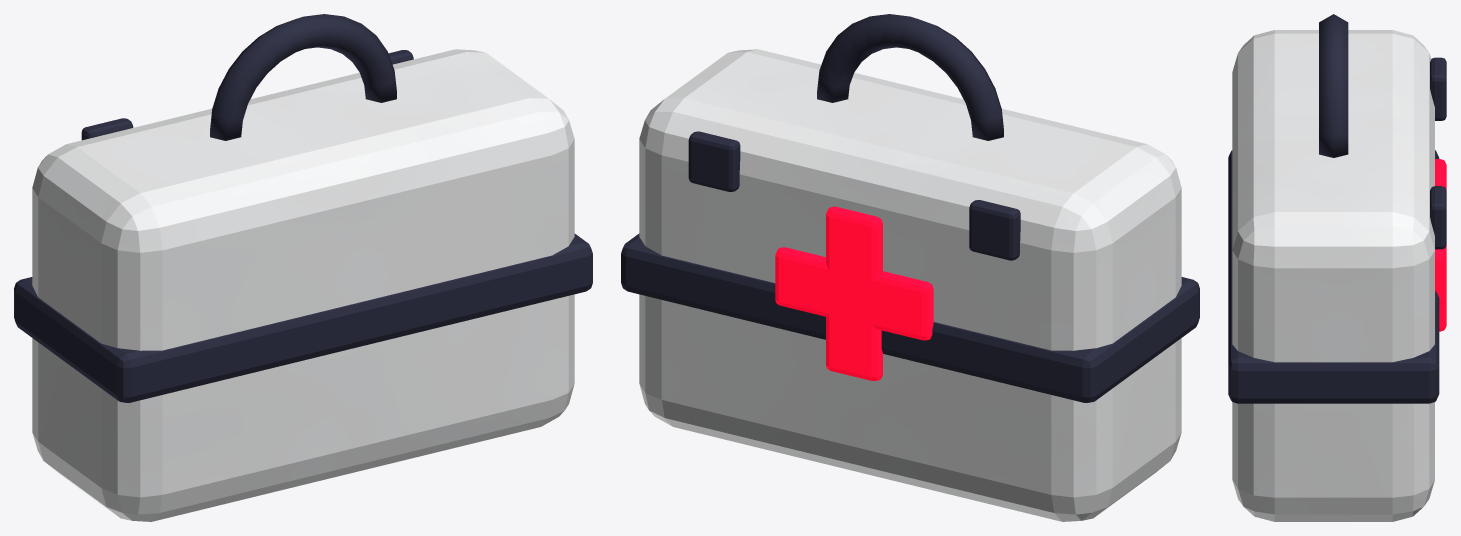
Rendered from item_medkit.glb.
3 renders of one model, left to right at view 1: azimuth 30°, elevation 25°; view 2: azimuth 150°, elevation 25°; view 3: azimuth 270°, elevation 25°, orthographic. The views are drawn at different scales.
Parts seen in each view (by area): view 1: item_medkit; view 2: item_medkit; view 3: item_medkit.
Part boxes in pixels (left/top/right/bottom): item_medkit: left=14, top=14, right=592, bottom=521; item_medkit: left=621, top=14, right=1199, bottom=521; item_medkit: left=1228, top=14, right=1446, bottom=521.
Size of the model in its own units: 0.305 by 0.265 by 0.1295.
Materials: 3 (1 with a texture image).
